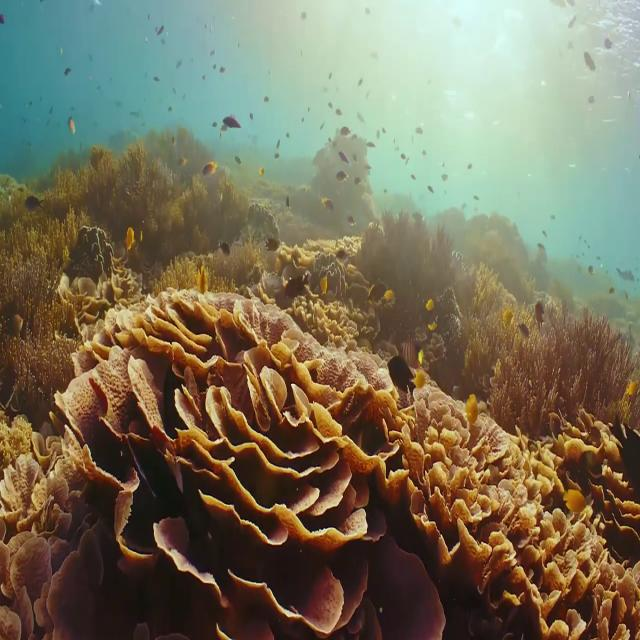fish: (386, 353, 416, 400)
